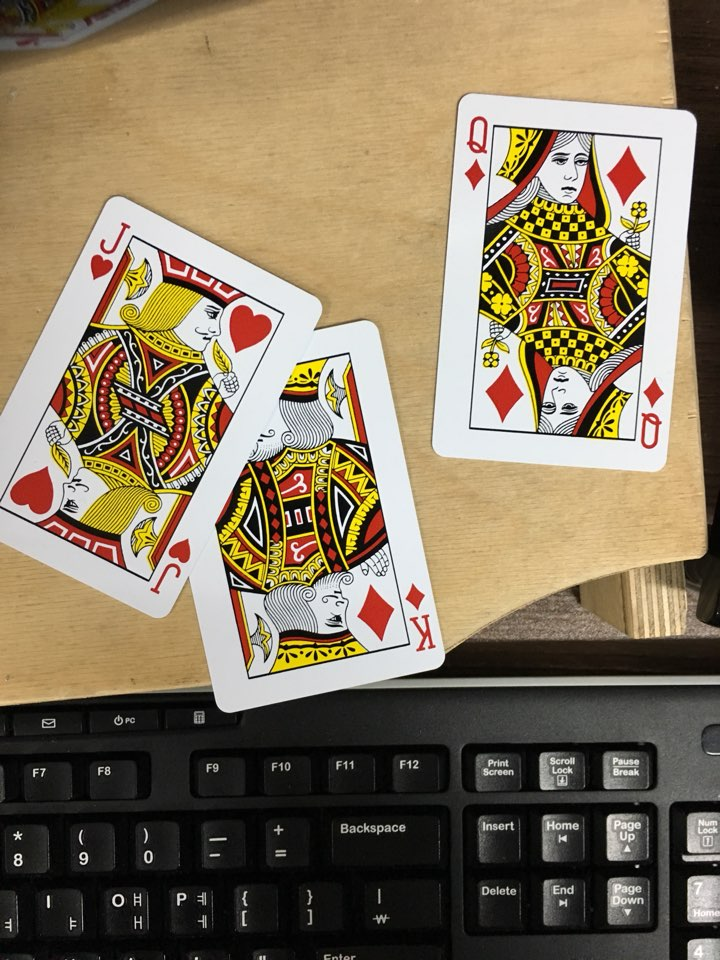jack: (1, 179, 330, 626)
king: (113, 290, 479, 759)
queen: (427, 73, 695, 500)
